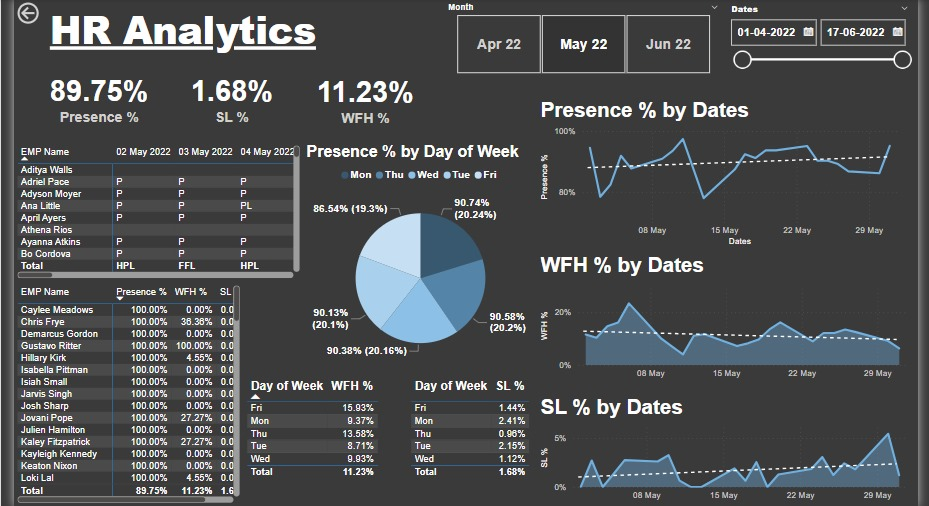

Layout of this report page (visuals, bound fields, positions):
{"tool":"powerbi","page":{"name":"Page 1","canvas":[1280,720],"ordinal":0},"visuals":[{"type":"card","fields":{"Values":["Attendence-2022 to 2023.Presence %"]},"box":[18.3,75,205,128.3],"z":0},{"type":"slicer","fields":{"Values":["Attendence-2022 to 2023.Month"]},"box":[602.4,0,408.2,112],"z":1000},{"type":"card","fields":{"Values":["Measure table.WFH %"]},"box":[393.3,76.7,208.3,126.7],"z":2000},{"type":"card","fields":{"Values":["Measure table.SL %"]},"box":[223.9,75.1,170.1,127.6],"z":3000},{"type":"pivotTable","fields":{"Rows":["Attendence-2022 to 2023.EMP Name"],"Values":["Attendence-2022 to 2023.Presence %","Measure table.WFH %","Measure table.SL %"]},"box":[0,401.7,325,318.3],"z":4000},{"type":"textbox","box":[0,0,478.7,87.3],"z":5000},{"type":"pivotTable","fields":{"Rows":["Attendence-2022 to 2023.EMP Name"],"Values":["Attendence-2022 to 2023.Value"],"Columns":["Attendence-2022 to 2023.Dates"]},"box":[0,203.3,410,198.3],"z":6000},{"type":"lineChart","fields":{"Category":["Attendence-2022 to 2023.Dates"],"Y":["Attendence-2022 to 2023.Presence %"]},"box":[741.7,140,525,215],"z":7000},{"type":"areaChart","fields":{"Category":["Attendence-2022 to 2023.Dates"],"Y":["Measure table.WFH %"]},"box":[741.7,360,538.3,186.7],"z":8000},{"type":"areaChart","fields":{"Category":["Attendence-2022 to 2023.Dates"],"Y":["Measure table.SL %"]},"box":[741.7,561.7,538.3,158.3],"z":9000},{"type":"pieChart","fields":{"Category":["Attendence-2022 to 2023.Day of Week"],"Y":["Attendence-2022 to 2023.Presence %"]},"box":[409.6,202.7,333.1,328.8],"z":10000},{"type":"tableEx","fields":{"Values":["Attendence-2022 to 2023.Day of Week","Measure table.WFH %"]},"box":[324.6,531.5,206.9,172.9],"z":11000},{"type":"actionButton","box":[0,0,100,40],"z":12000},{"type":"tableEx","fields":{"Values":["Attendence-2022 to 2023.Day of Week","Measure table.SL %"]},"box":[557,531.5,185.7,181.4],"z":13000},{"type":"slicer","fields":{"Values":["Attendence-2022 to 2023.Dates"]},"box":[1003.5,0,276.4,126.1],"z":14000}]}

Visuals, with their boxes on the page's 1280x720 design canvas (x1, y1, x2, y2). These are canvas units, not pixel positions in the 929x506 screenshot, which may show the page scaled, cropped or inside an application window:
card - Attendence-2022 to 2023.Presence %: 18:75:223:203
slicer - Attendence-2022 to 2023.Month: 602:0:1011:112
card - Measure table.WFH %: 393:77:602:203
card - Measure table.SL %: 224:75:394:203
pivotTable - Attendence-2022 to 2023.EMP Name x Attendence-2022 to 2023.Presence %: 0:402:325:720
textbox: 0:0:479:87
pivotTable - Attendence-2022 to 2023.EMP Name x Attendence-2022 to 2023.Value: 0:203:410:402
lineChart - Attendence-2022 to 2023.Dates x Attendence-2022 to 2023.Presence %: 742:140:1267:355
areaChart - Attendence-2022 to 2023.Dates x Measure table.WFH %: 742:360:1280:547
areaChart - Attendence-2022 to 2023.Dates x Measure table.SL %: 742:562:1280:720
pieChart - Attendence-2022 to 2023.Day of Week x Attendence-2022 to 2023.Presence %: 410:203:743:532
tableEx - Attendence-2022 to 2023.Day of Week x Measure table.WFH %: 325:532:532:704
actionButton: 0:0:100:40
tableEx - Attendence-2022 to 2023.Day of Week x Measure table.SL %: 557:532:743:713
slicer - Attendence-2022 to 2023.Dates: 1004:0:1280:126
